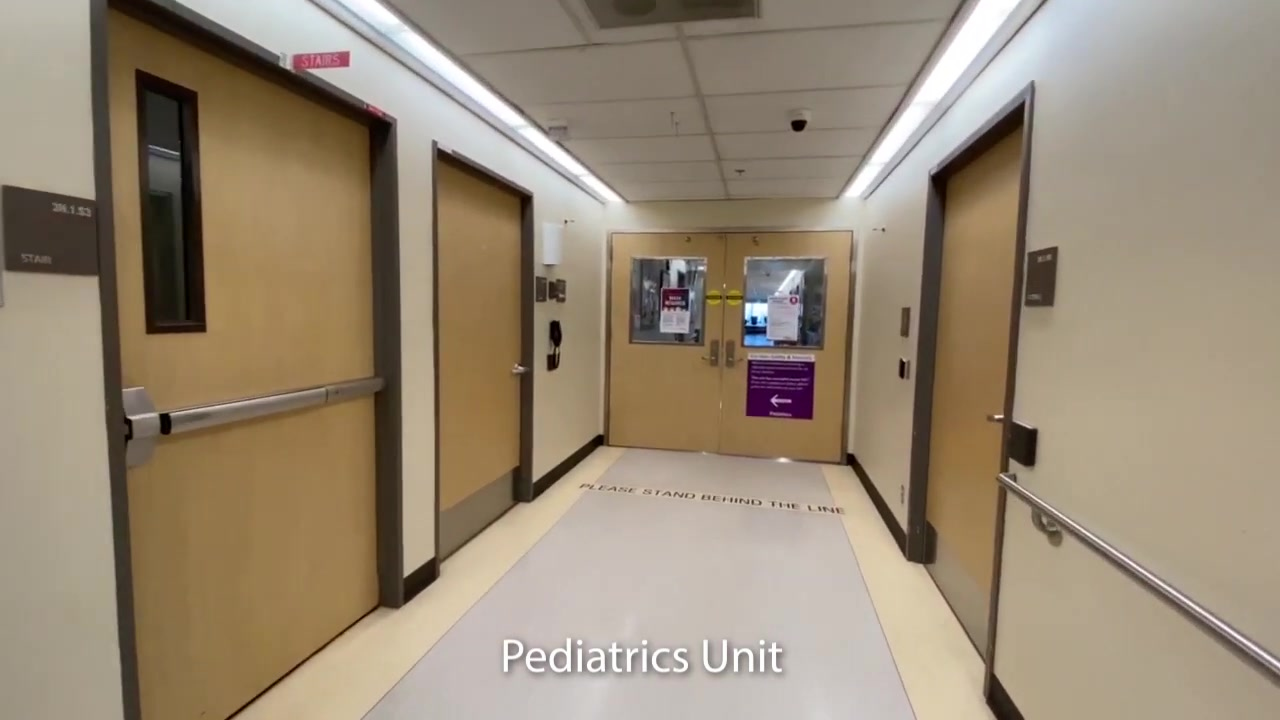door_handle: (510, 363, 531, 378), (984, 412, 1003, 425), (700, 356, 718, 362), (728, 357, 744, 363)
hallway_assist_bar: (988, 470, 1280, 707)
press_to_open: (1006, 420, 1039, 466)
push_latch: (118, 376, 386, 470)
